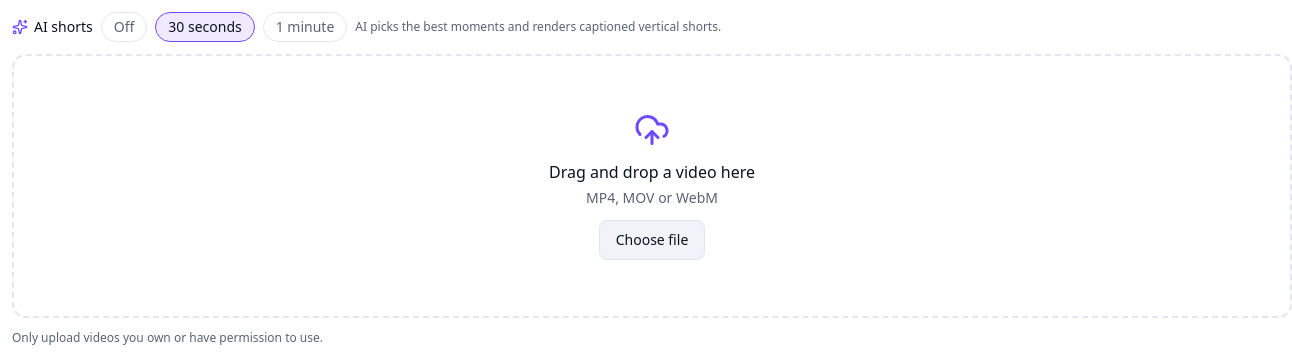
AI shorts › offers 30s / 1 min AI shorts on upload when the server has AI
The width and height of the screenshot is (1292, 362).
Click the radio button labelled "1 minute": (305,27) [263,12,347,42]
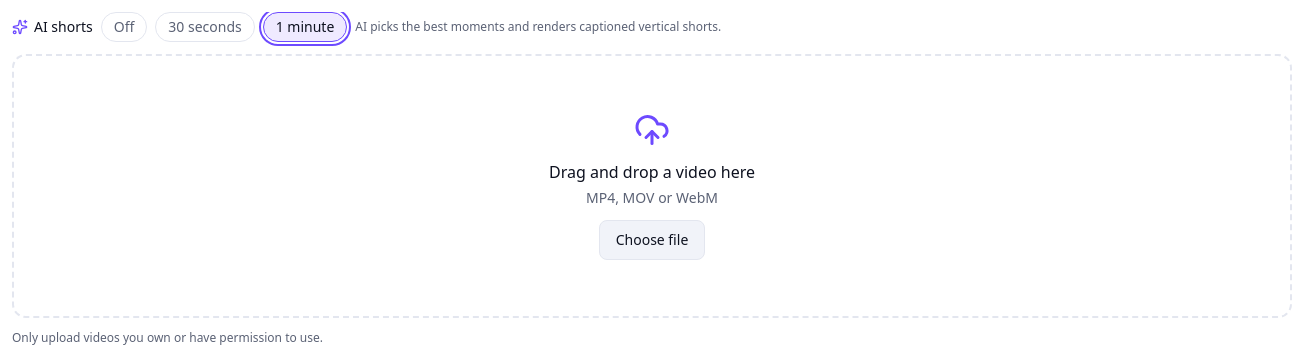
expect the radio button labelled "1 minute" is checked: met, box [263,12,347,42]
